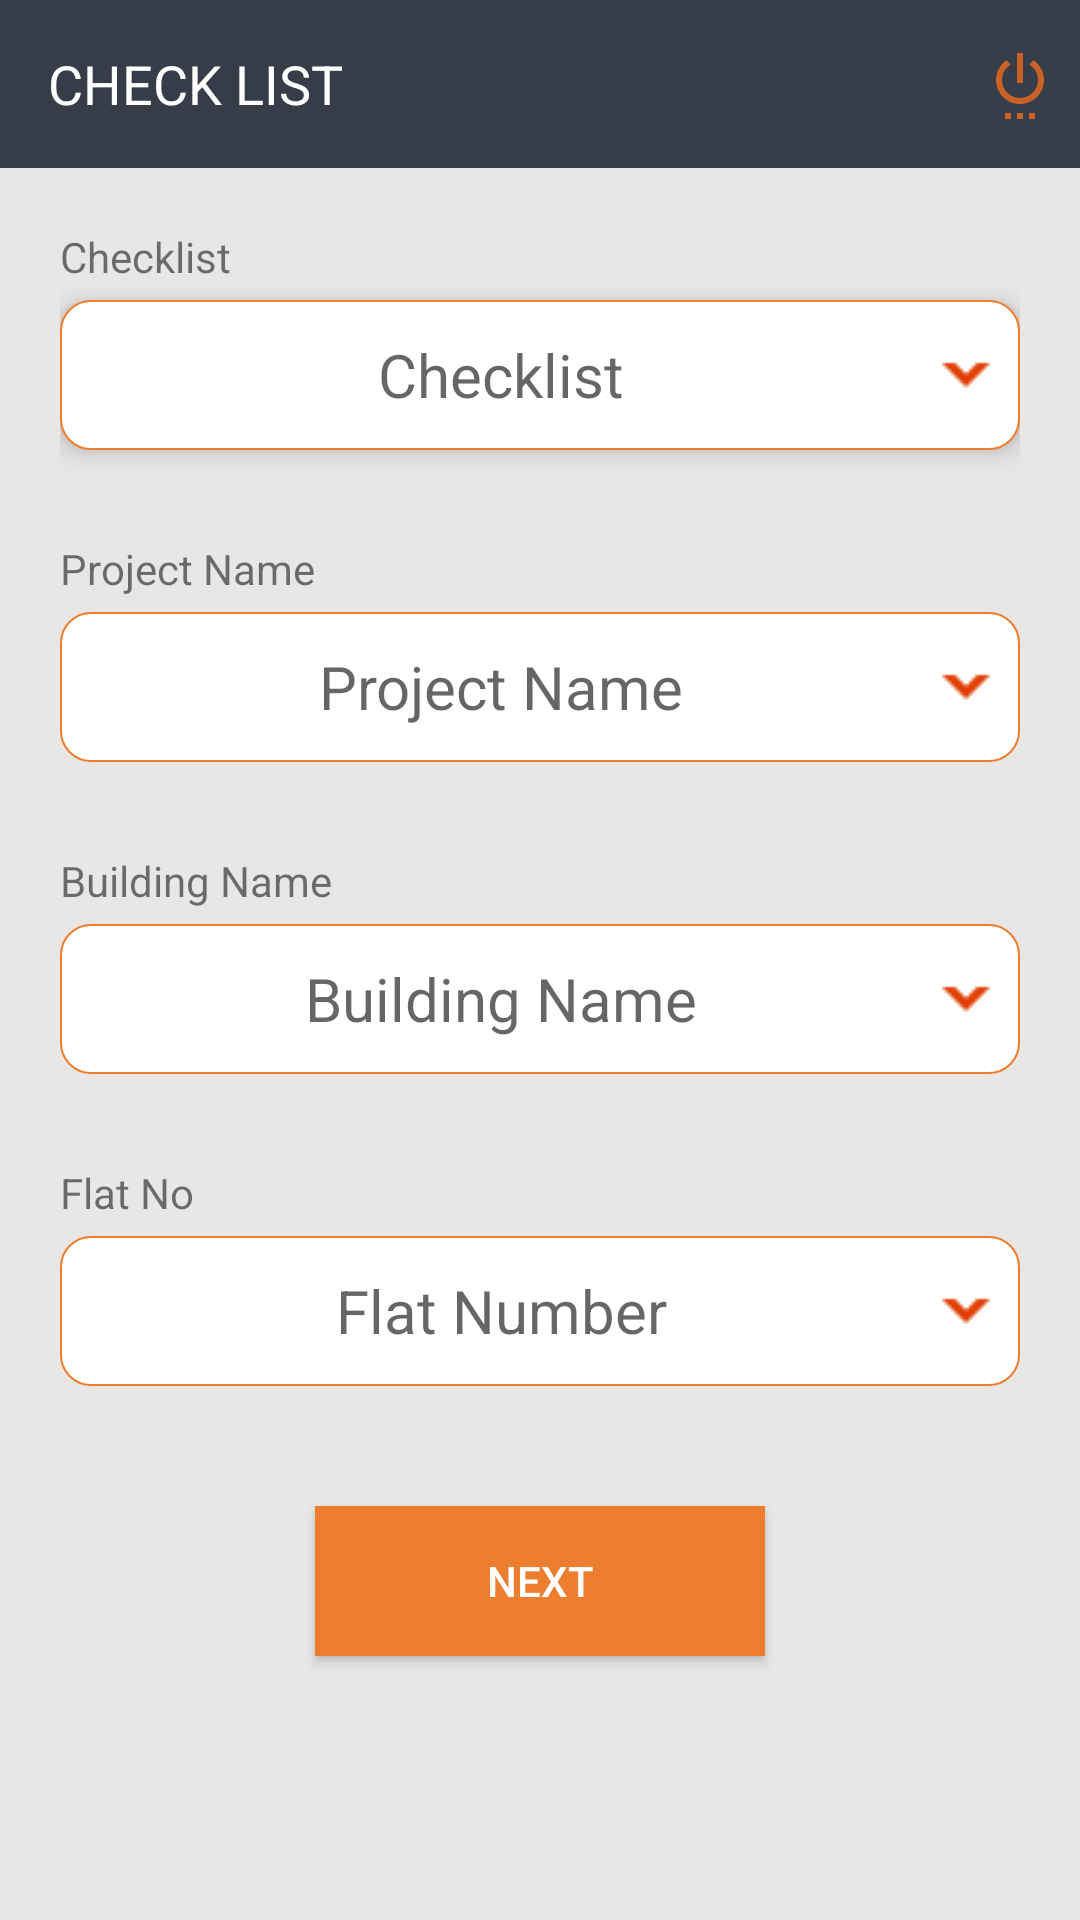

Screen size 1080px×1920px. Icon name, then its box in pixels as (x1, y1, x2, y2):
settings power: (996, 53, 1044, 119)
